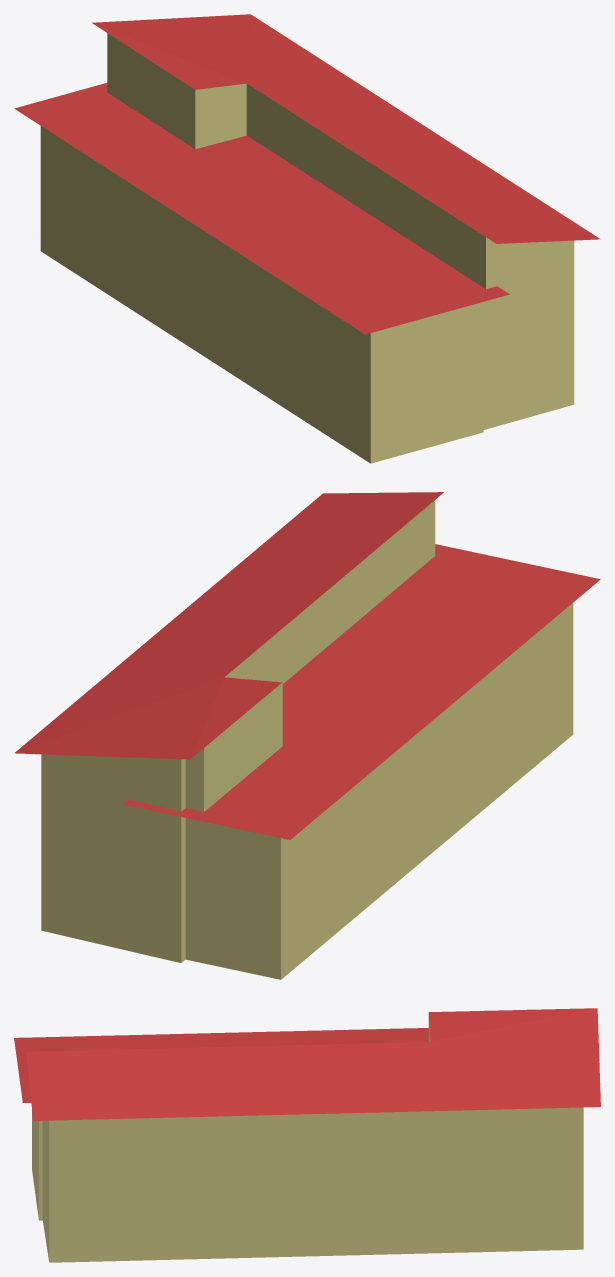
3 renders of one model, top to bottom at view 1: azimuth 30°, elevation 25°; view 2: azimuth 150°, elevation 25°; view 3: azimuth 270°, elevation 25°, orthographic. The views are drawn at different scales.
Bounding box in the file's own units: 12.57 × 25.74 × 8.62.
